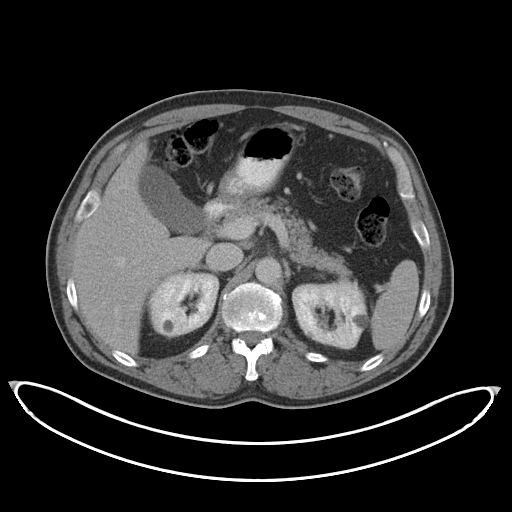Lesion: (352, 315, 371, 328)
